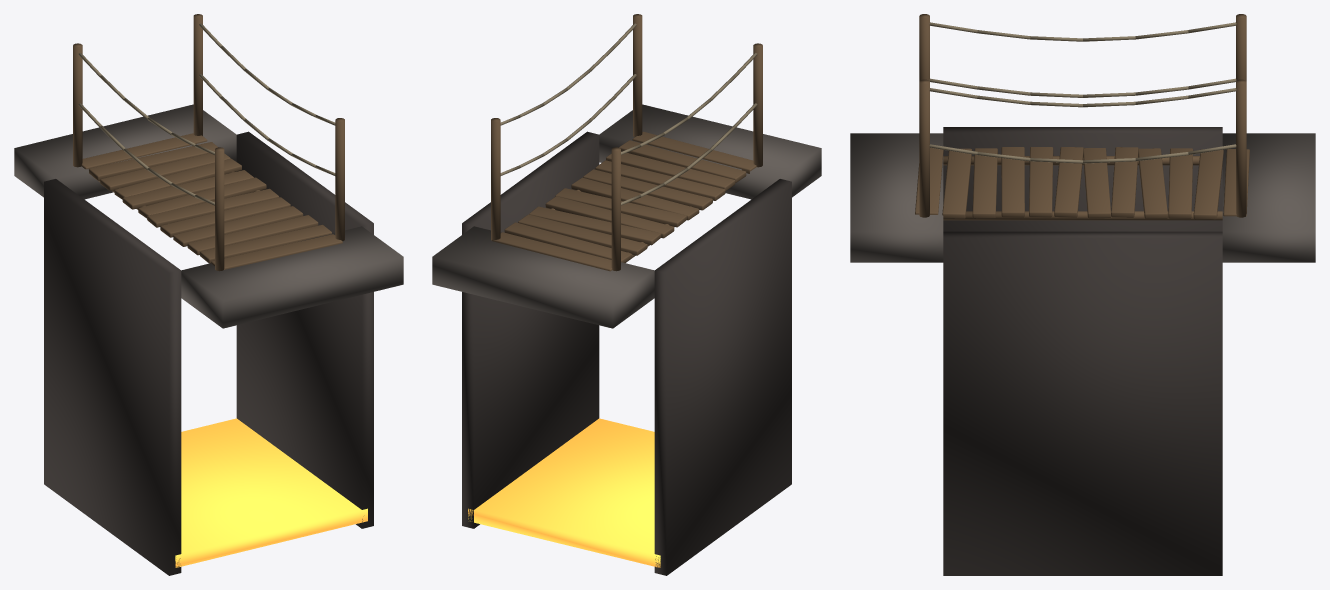
The model's file is bridge.glb.
3 views of the same model, side by side, from view 1: azimuth 30°, elevation 25°; view 2: azimuth 150°, elevation 25°; view 3: azimuth 270°, elevation 25° (orthographic). The views are drawn at different scales.
Parts seen in each view (by area): view 1: ChasmWall-1, ChasmWall1, ChasmFloor, Ledge-1, Ledge1, Plank4, Plank10, Plank2, Plank3, Plank5, Plank1, Plank7 (+9 smaller); view 2: ChasmWall-1, ChasmWall1, ChasmFloor, Ledge1, Ledge-1, Plank1, Plank7, Plank9, Plank10, Plank6, Plank8, Plank4 (+9 smaller); view 3: ChasmWall1, ChasmWall-1, Ledge1, Ledge-1, Plank10, Plank5, Plank8, Plank1, Plank7, Plank2, Plank6, Plank3 (+9 smaller).
Part boxes in pixels (bbox=[...]): ChasmWall-1: bbox=[44, 179, 181, 575]; ChasmWall1: bbox=[236, 131, 373, 528]; ChasmFloor: bbox=[175, 418, 367, 567]; Ledge-1: bbox=[181, 226, 403, 328]; Ledge1: bbox=[14, 104, 236, 199]; Plank4: bbox=[160, 197, 290, 237]; Plank10: bbox=[88, 142, 217, 180]; Plank2: bbox=[187, 215, 318, 255]; Plank3: bbox=[173, 206, 303, 246]; Plank5: bbox=[147, 188, 278, 227]; Plank1: bbox=[200, 224, 331, 263]; Plank7: bbox=[122, 170, 253, 209]; ChasmWall-1: bbox=[654, 179, 791, 575]; ChasmWall1: bbox=[462, 131, 599, 528]; ChasmFloor: bbox=[468, 418, 660, 567]; Ledge1: bbox=[432, 226, 654, 328]; Ledge-1: bbox=[599, 104, 821, 199]; Plank1: bbox=[619, 140, 746, 182]; Plank7: bbox=[545, 196, 674, 238]; Plank9: bbox=[518, 214, 647, 255]; Plank10: bbox=[504, 222, 631, 262]; Plank6: bbox=[555, 188, 686, 227]; Plank8: bbox=[529, 206, 660, 245]; Plank4: bbox=[583, 169, 712, 210]; ChasmWall1: bbox=[943, 231, 1222, 575]; ChasmWall-1: bbox=[943, 127, 1222, 231]; Ledge1: bbox=[1222, 133, 1315, 262]; Ledge-1: bbox=[850, 133, 943, 262]; Plank10: bbox=[1193, 149, 1223, 219]; Plank5: bbox=[1054, 147, 1083, 217]; Plank8: bbox=[1138, 148, 1167, 218]; Plank1: bbox=[942, 148, 972, 218]; Plank7: bbox=[1111, 147, 1138, 217]; Plank2: bbox=[972, 148, 997, 218]; Plank6: bbox=[1083, 148, 1110, 218]; Plank3: bbox=[1001, 147, 1024, 217].
Bounding box in the file's own units: 1.7 × 3.35 × 3.
